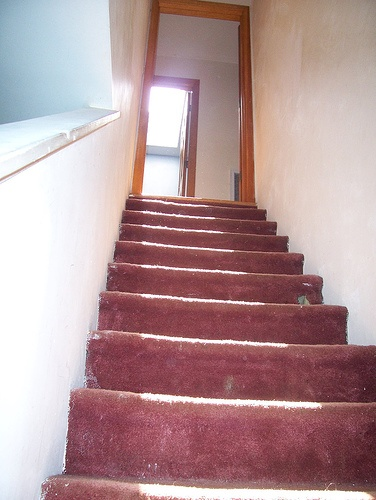stairs_up: (49, 194, 376, 469)
